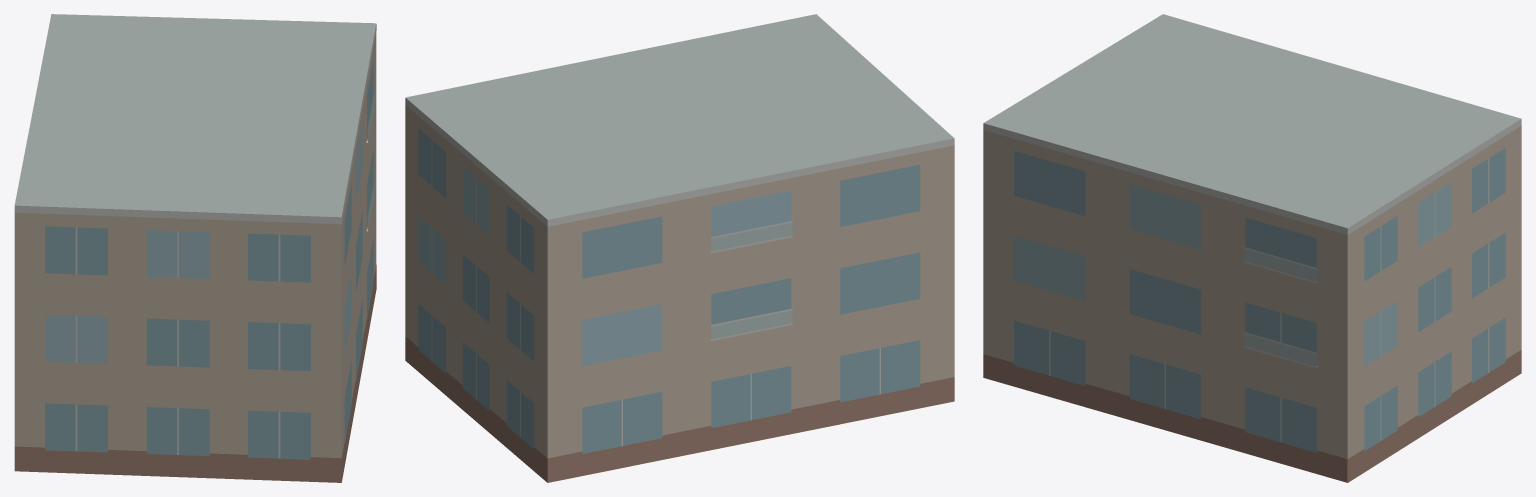
The model's file is survey-upis-32698005.glb.
3 renders of one model, left to right at view 1: azimuth 30°, elevation 25°; view 2: azimuth 150°, elevation 25°; view 3: azimuth 270°, elevation 25°, orthographic. The views are drawn at different scales.
Parts seen in each view (by area): view 1: survey-upis-32698005.tmp; view 2: survey-upis-32698005.tmp; view 3: survey-upis-32698005.tmp.
Part boxes in pixels (x1,y1,x2,y2): survey-upis-32698005.tmp: (14, 14, 376, 482); survey-upis-32698005.tmp: (405, 14, 954, 482); survey-upis-32698005.tmp: (983, 14, 1521, 482).
Bounding box in the file's own units: 16.53 × 9.15 × 17.54.
